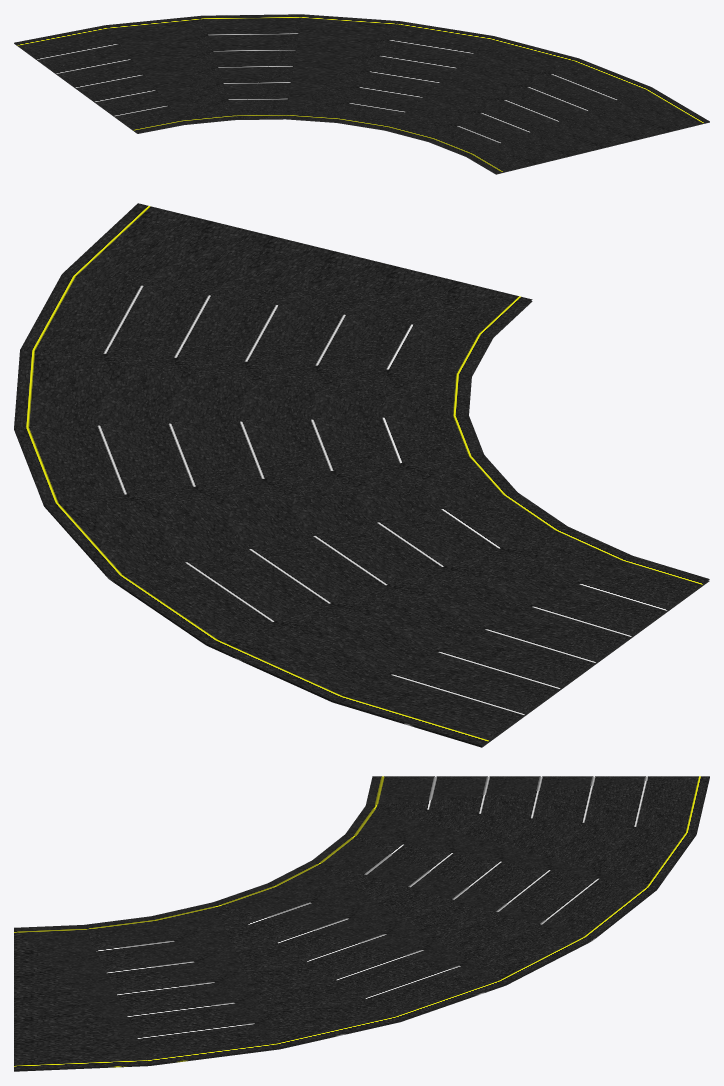
File: curved_6lane_50m.dae
3 views of the same model, one above another, from view 1: azimuth 30°, elevation 25°; view 2: azimuth 150°, elevation 25°; view 3: azimuth 270°, elevation 25° (orthographic). The views are drawn at different scales.
Parts seen in each view (by area): view 1: Cube; view 2: Cube; view 3: Cube.
Part boxes in pixels (x1,y1,x2,y2): Cube: [14, 14, 709, 174]; Cube: [14, 203, 709, 747]; Cube: [14, 776, 709, 1071].
Size of the model in its own units: 66 by 66 by 0.14.
Materials: 1 (1 with a texture image).
